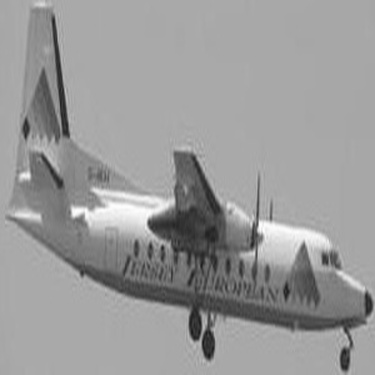airplane: (3, 2, 369, 372)
